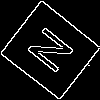N: (25, 25, 83, 81)
